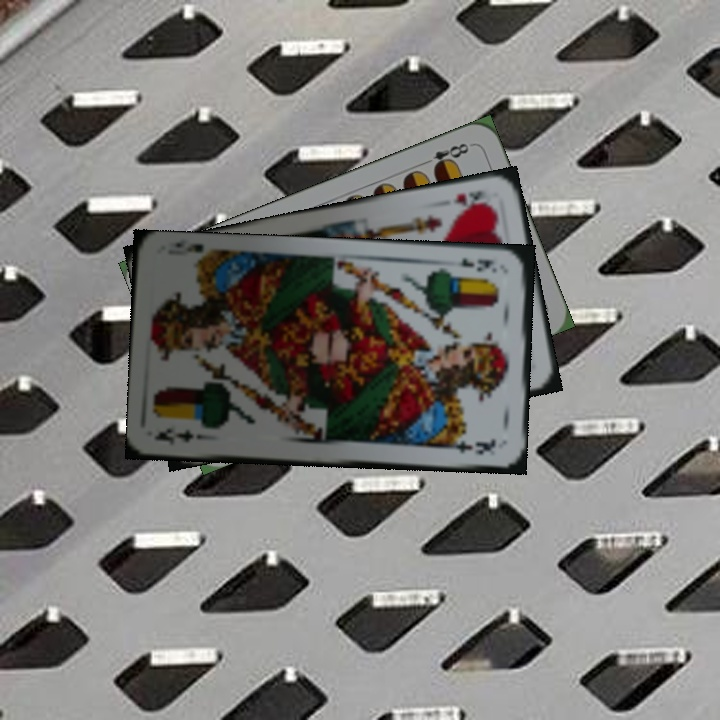E8: (418, 139, 472, 173)
EK: (151, 424, 210, 448), (456, 254, 499, 275)
HK: (449, 187, 491, 213)
